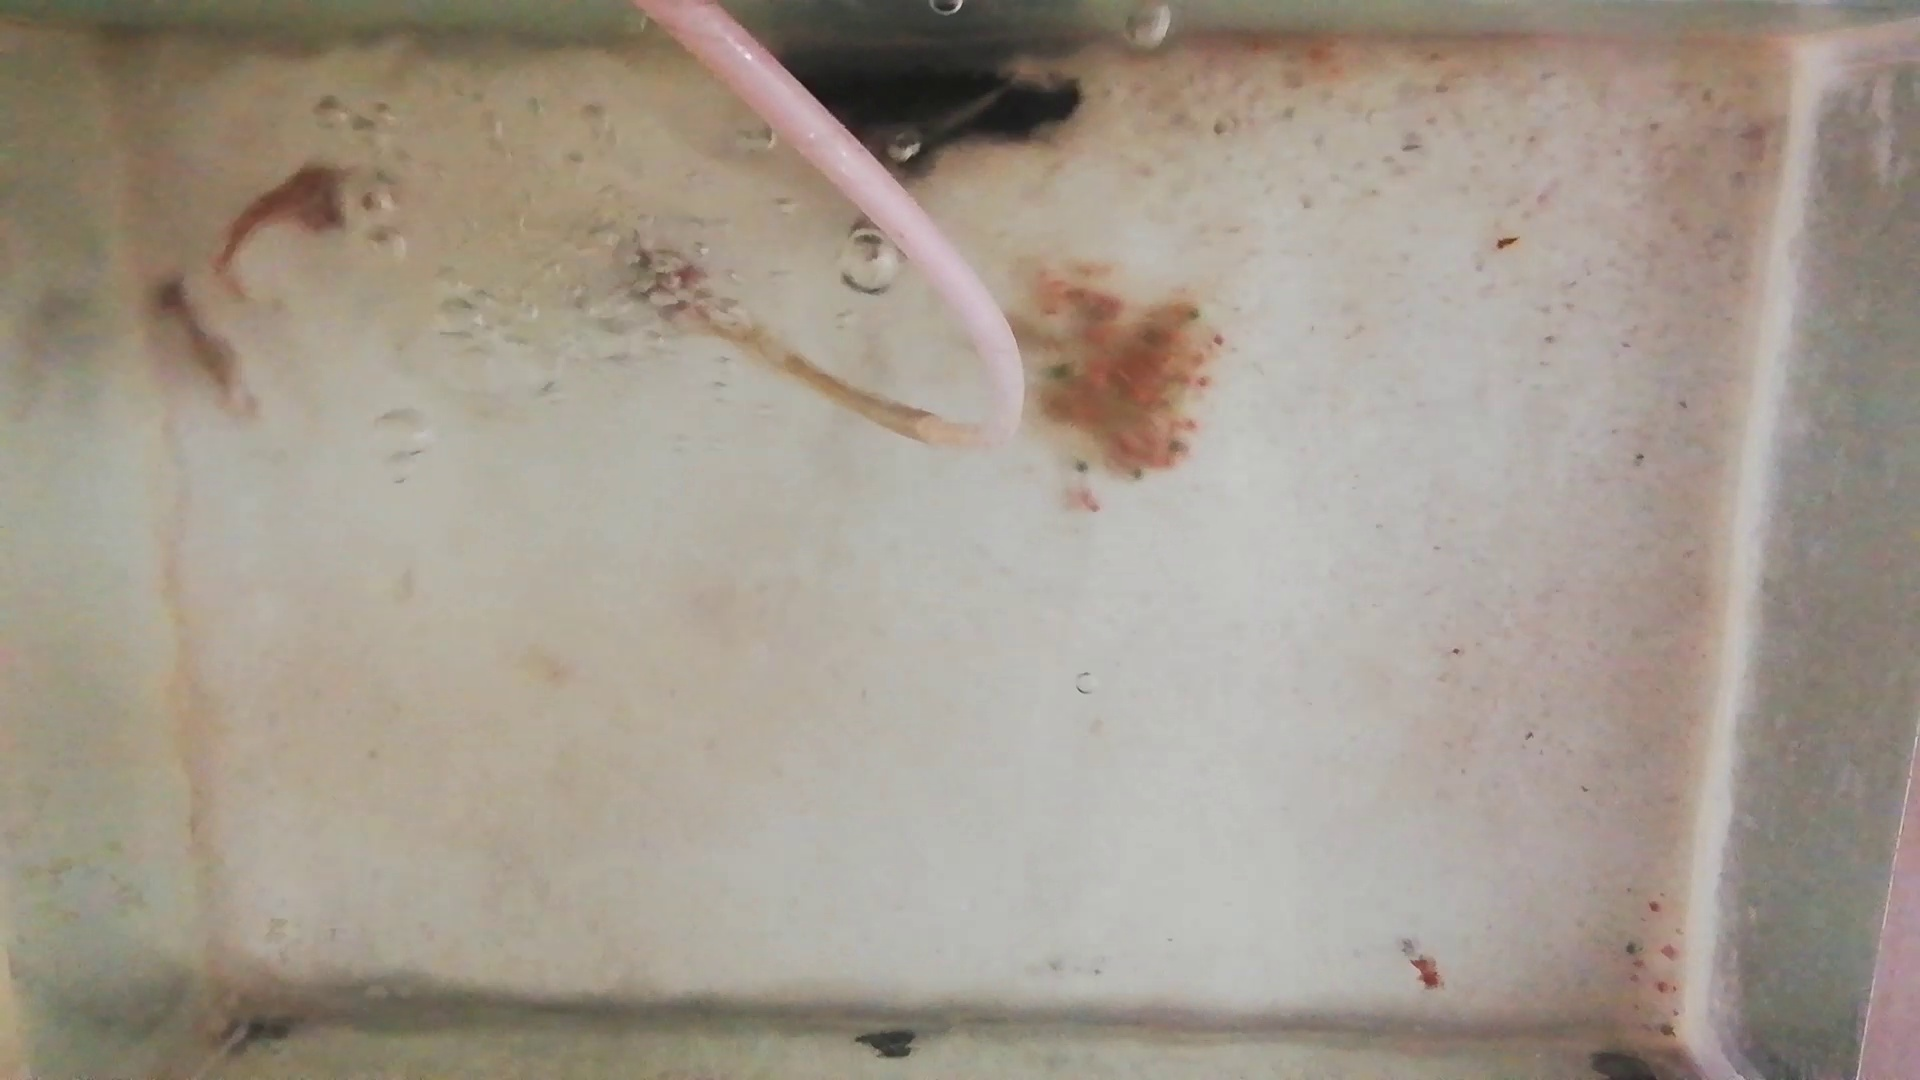fish: (208, 162, 363, 276), (150, 276, 244, 401)
